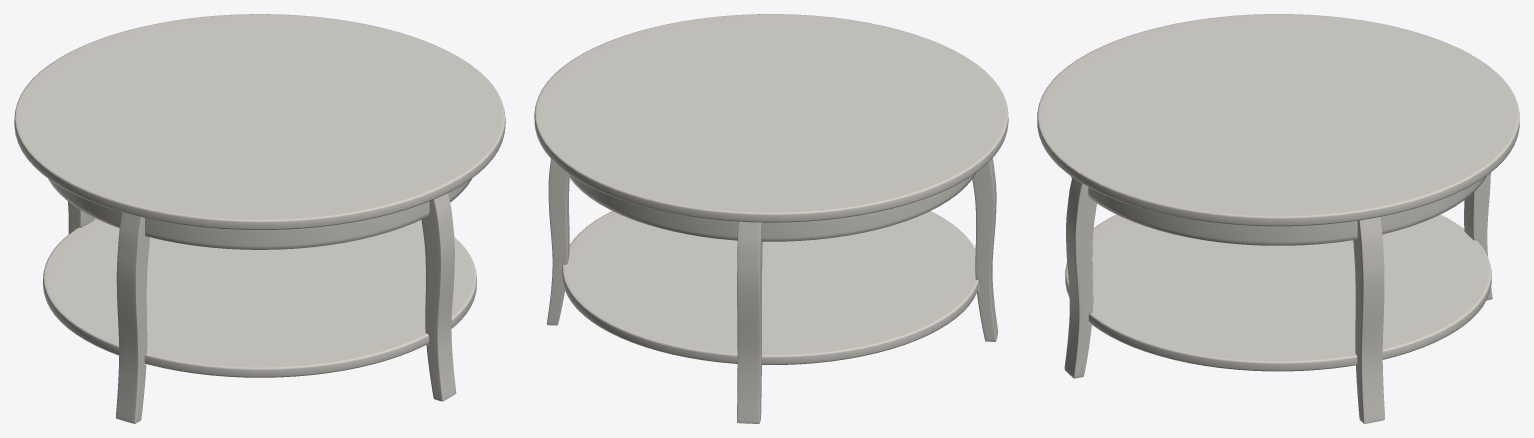
File: table_B07DBFG16Z.glb
3 views of the same model, side by side, from view 1: azimuth 30°, elevation 25°; view 2: azimuth 150°, elevation 25°; view 3: azimuth 270°, elevation 25° (orthographic). The views are drawn at different scales.
Parts seen in each view (by area): view 1: RootNode; view 2: RootNode; view 3: RootNode.
Part boxes in pixels (x1,y1,x2,y2): RootNode: [14, 14, 505, 423]; RootNode: [534, 14, 1008, 423]; RootNode: [1037, 14, 1519, 423].
Bounding box in the file's own units: 0.9103 × 0.4572 × 0.9103.
Materials: 1 (1 with a texture image).
